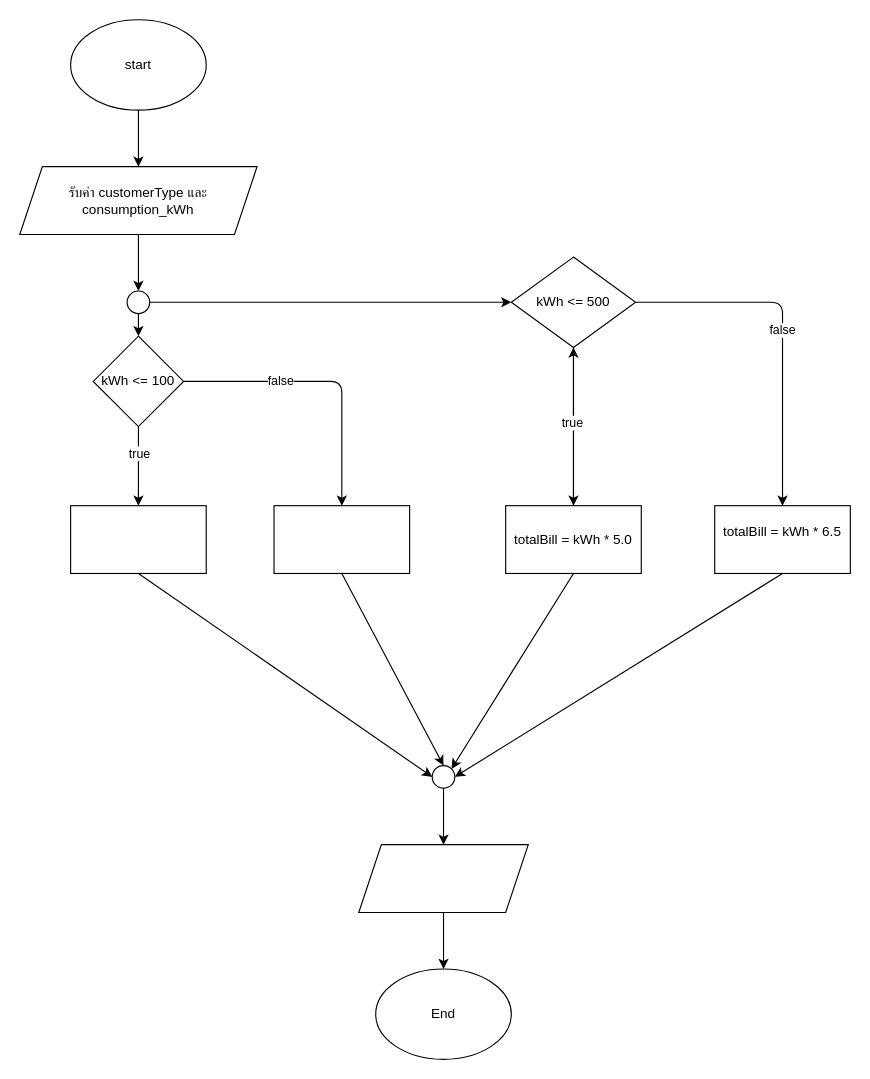
The diagram is 870 pixels wide and 1079 high, and some of its shapes have lost their labels. The centre of each missing label's shape, as x and y in pixels:
"totalBill = kWh * 3.0" belongs at point (137, 539).
"totalBill = kWh * 4.0" belongs at point (341, 539).
"แสดงผลค่า totalBill" belongs at point (443, 878).
